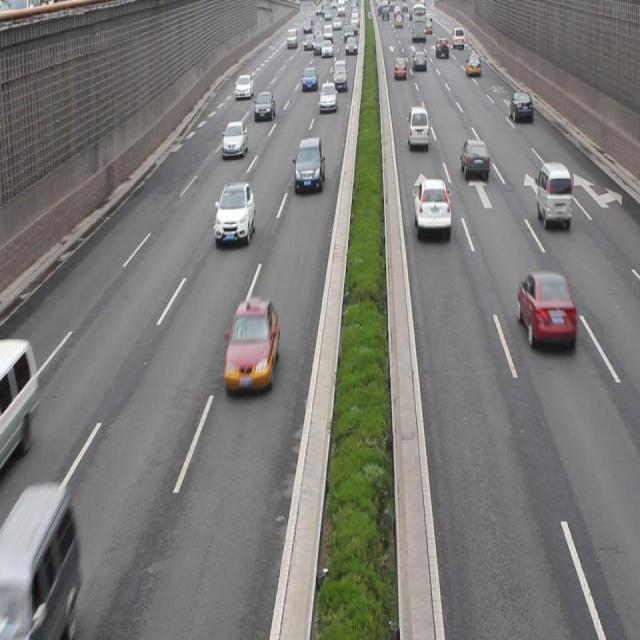car: (224, 298, 278, 394), (518, 270, 574, 352), (214, 182, 255, 246), (413, 180, 448, 237), (294, 138, 323, 191), (461, 139, 487, 180), (220, 118, 248, 156)
truck: (1, 481, 82, 634), (1, 333, 38, 469), (534, 162, 571, 229), (406, 107, 428, 148)
